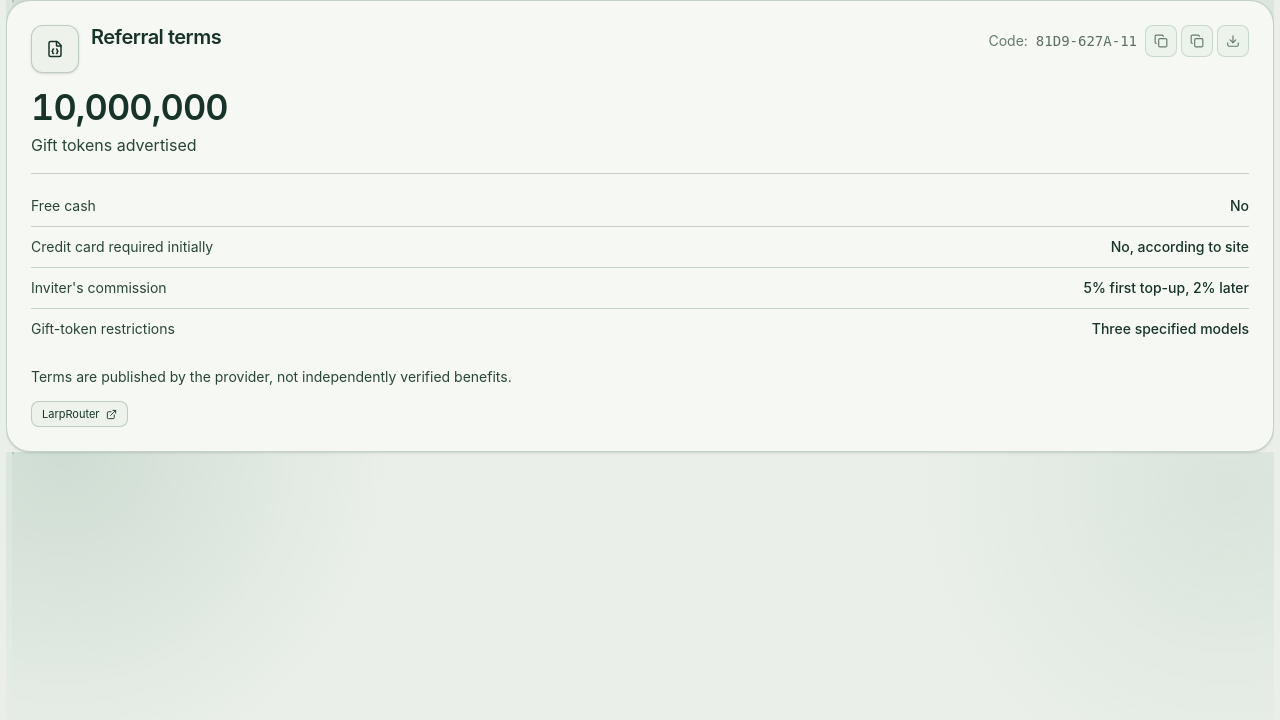
Scenario: renders referral terms as aligned rows and lets the user copy the code
Check: the text "10,000,000" is shown, box [31,85,228,129]
Check: the text "Gift tokens advertised" is shown, box [31,135,197,155]
Click the button named "Copy referral code".
click(1161, 41)  # box [1145,25,1177,57]
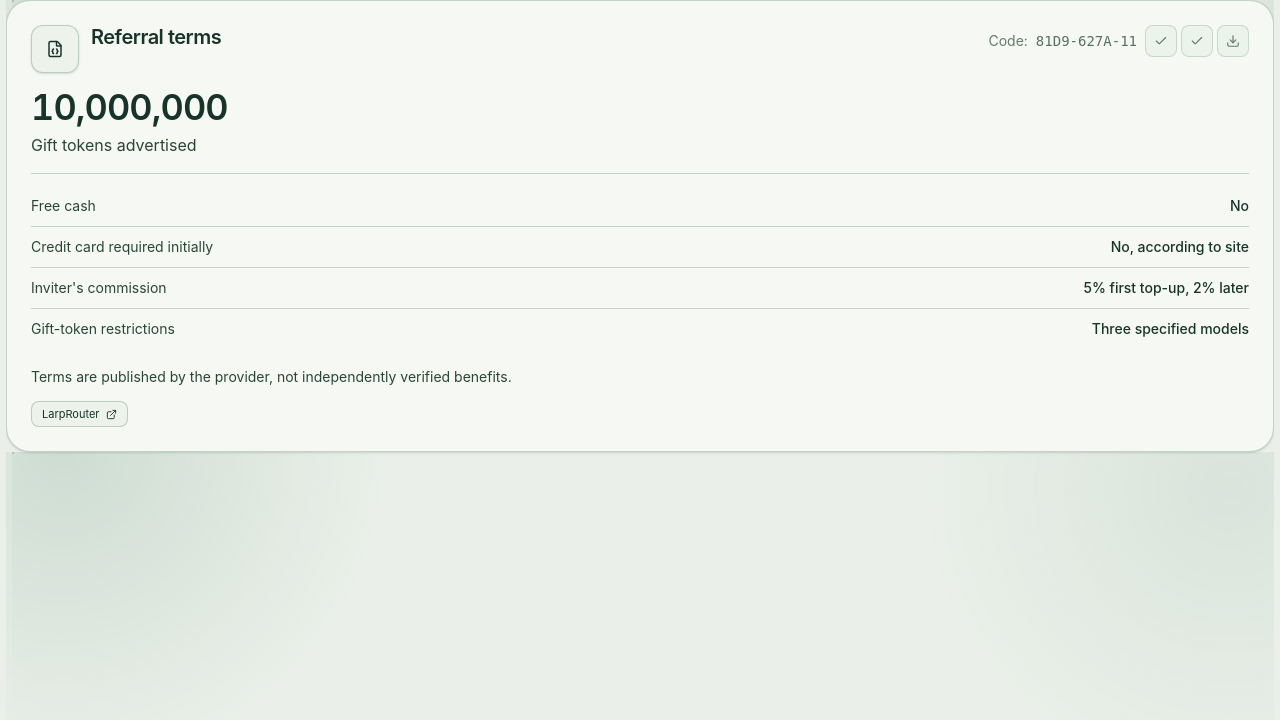
Check: the button named "Referral code copied" is shown, box [1145,25,1177,57]
